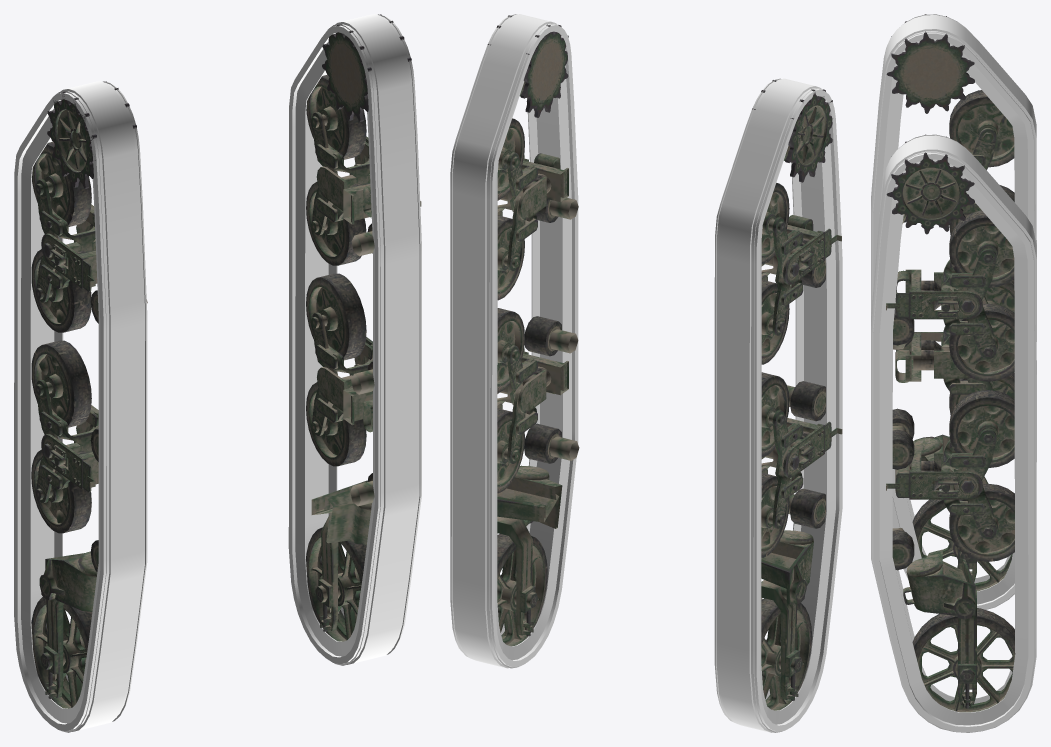
Rendered from Chassis.glb.
3 renders of one model, left to right at view 1: azimuth 30°, elevation 25°; view 2: azimuth 150°, elevation 25°; view 3: azimuth 270°, elevation 25°, orthographic. The views are drawn at different scales.
Visible parts, largest first — view 1: set_0_group_0, set_1_group_0, set_2_group_0, set_3_group_0; view 2: set_0_group_0, set_1_group_0, set_3_group_0, set_2_group_0; view 3: set_3_group_0, set_1_group_0, set_2_group_0, set_0_group_0.
Part boxes in pixels (x1,y1,x2,y2): set_0_group_0: (14,81,147,732); set_1_group_0: (288,14,421,665); set_2_group_0: (31,81,147,708); set_3_group_0: (306,14,421,641); set_0_group_0: (714,78,842,732); set_1_group_0: (450,14,578,668); set_3_group_0: (487,15,579,646); set_2_group_0: (752,80,842,710); set_3_group_0: (886,134,1015,712); set_1_group_0: (871,134,1036,732); set_2_group_0: (886,14,1014,591); set_0_group_0: (871,14,1036,609).
Bounding box in the file's own units: 2.25 × 4.19 × 1.08.
4 materials, 2 textured.
